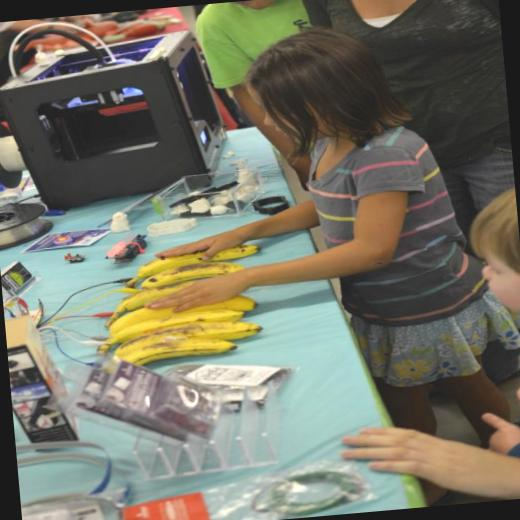Banana: (95, 232, 292, 370)
